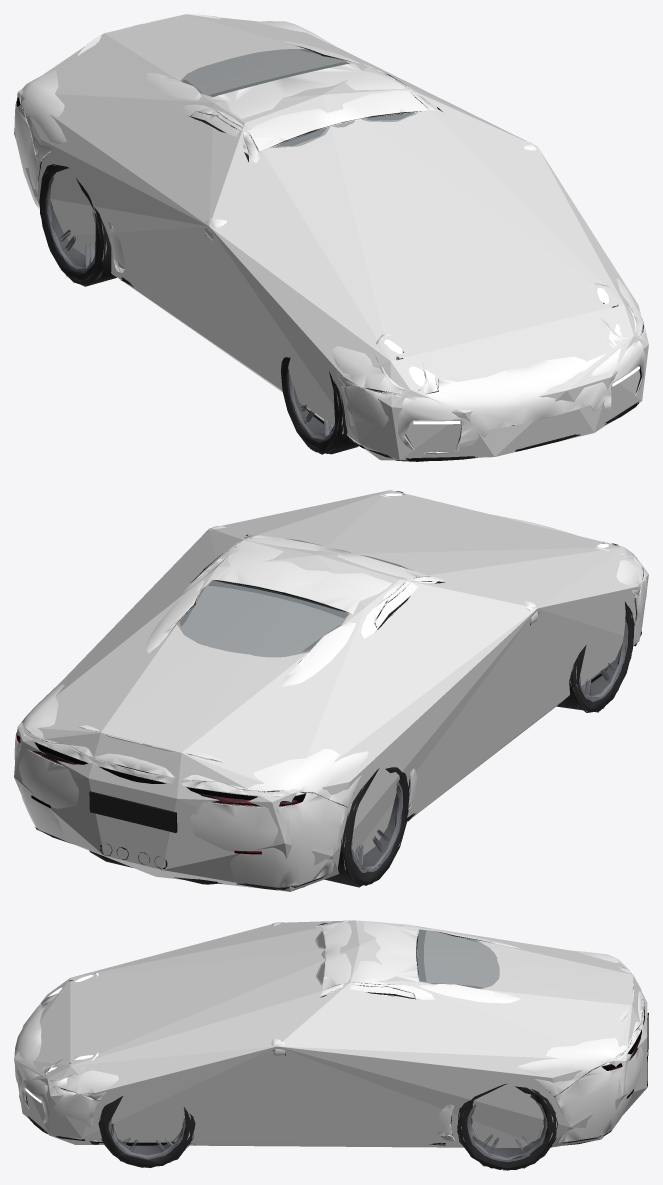
The model's file is kestrel_marten_lod1.glb.
3 renders of one model, top to bottom at view 1: azimuth 30°, elevation 25°; view 2: azimuth 150°, elevation 25°; view 3: azimuth 270°, elevation 25°, orthographic. The views are drawn at different scales.
Parts seen in each view (by area): view 1: col_body, body, glass, wheel_RR, wheel_FR, trim, lights_front; view 2: col_body, body, glass, wheel_RR, trim, wheel_FR, lights_rear; view 3: col_body, body, glass, wheel_RL, wheel_FL, trim.
Part boxes in pixels (left/top/right/bottom): col_body: left=14, top=14, right=648, bottom=460; body: left=14, top=14, right=646, bottom=454; glass: left=180, top=49, right=417, bottom=147; wheel_RR: left=39, top=164, right=116, bottom=286; wheel_FR: left=281, top=357, right=358, bottom=454; trim: left=22, top=46, right=643, bottom=461; lights_front: left=384, top=288, right=639, bottom=424; col_body: left=14, top=490, right=648, bottom=891; body: left=14, top=494, right=647, bottom=886; glass: left=177, top=539, right=410, bottom=656; wheel_RR: left=324, top=767, right=409, bottom=887; trim: left=26, top=491, right=643, bottom=890; wheel_FR: left=556, top=601, right=634, bottom=712; lights_rear: left=16, top=731, right=306, bottom=854; col_body: left=14, top=920, right=647, bottom=1147; body: left=14, top=920, right=644, bottom=1142; glass: left=315, top=929, right=499, bottom=988; wheel_RL: left=457, top=1083, right=558, bottom=1170; wheel_FL: left=98, top=1096, right=195, bottom=1167; trim: left=19, top=923, right=648, bottom=1145.
Bounding box in the file's own units: 2 × 1.28 × 4.34.
8 materials, 1 textured.
